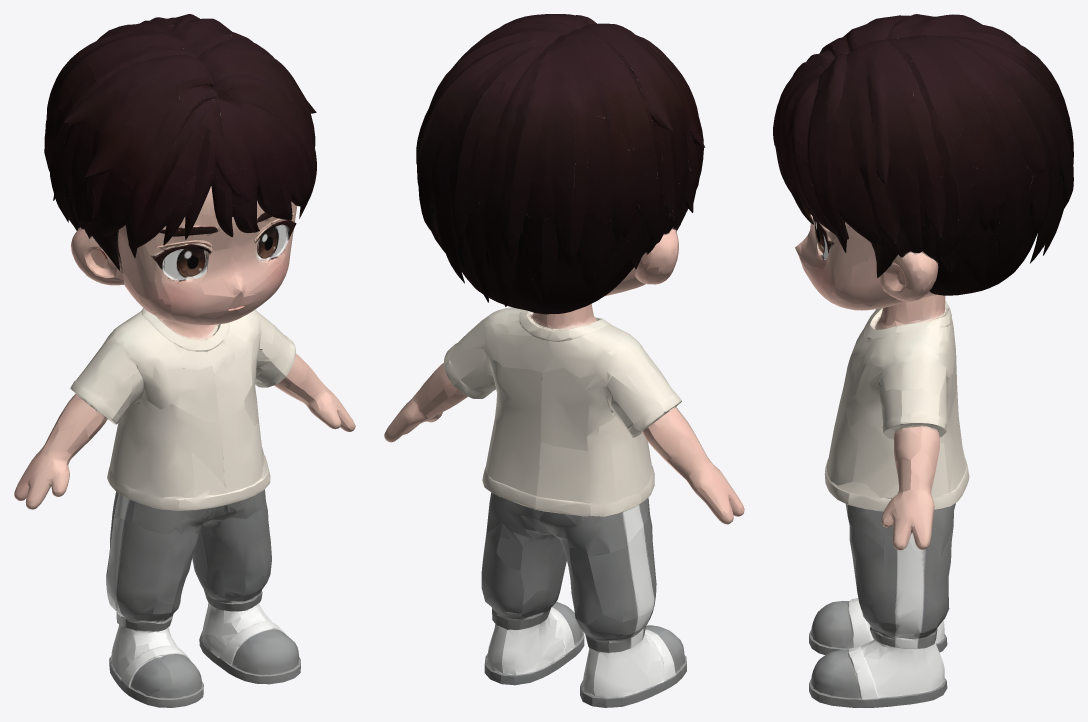
The model's file is hero_m_toy_a_meshy_mv_2aeab4b5.glb.
The picture shows the model from 3 angles, left to right: view 1: azimuth 30°, elevation 25°; view 2: azimuth 150°, elevation 25°; view 3: azimuth 270°, elevation 25°; orthographic projection. The views are drawn at different scales.
Size of the model in its own units: 1.05 by 1.9 by 0.8114.
1 material, 1 textured.
